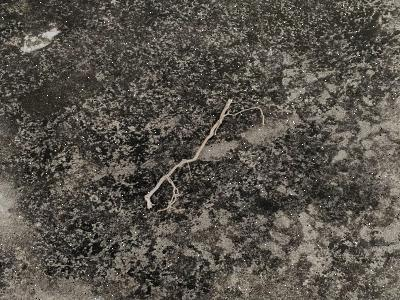Root: (144, 99, 237, 211), (239, 107, 264, 124)
